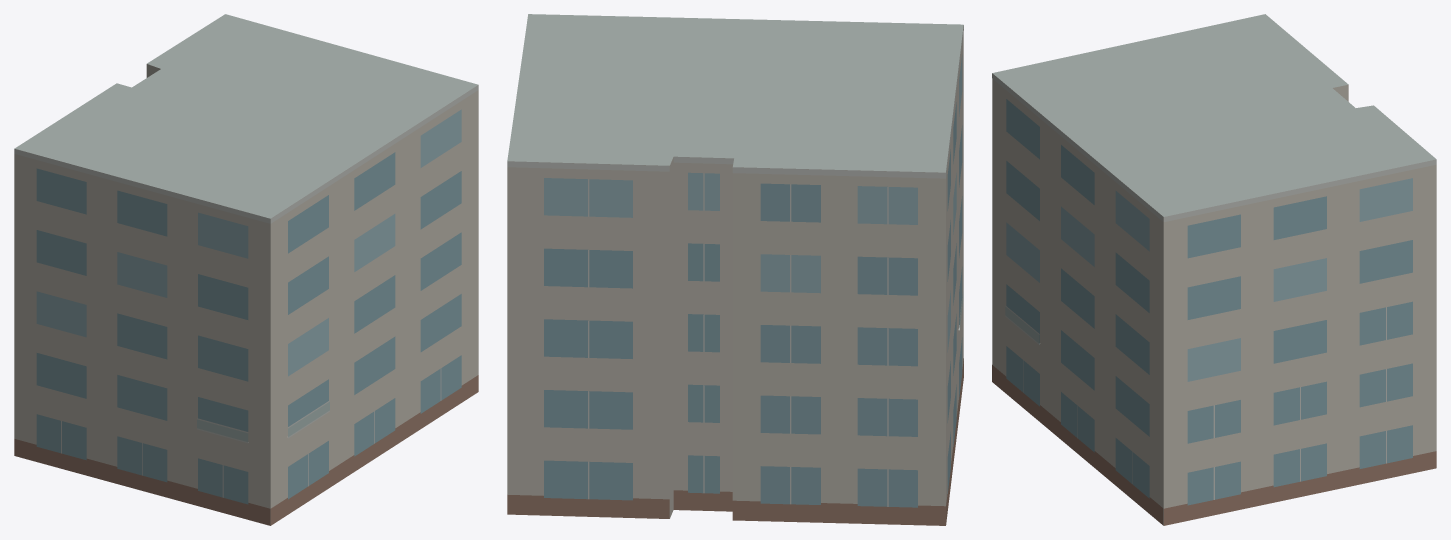
File: survey-upis-32702234.glb
3 views of the same model, side by side, from view 1: azimuth 30°, elevation 25°; view 2: azimuth 150°, elevation 25°; view 3: azimuth 270°, elevation 25° (orthographic). The views are drawn at different scales.
Parts seen in each view (by area): view 1: survey-upis-32702234.tmp; view 2: survey-upis-32702234.tmp; view 3: survey-upis-32702234.tmp.
Boxes of the visible parts, left/top/right/bottom form: survey-upis-32702234.tmp: left=14, top=14, right=478, bottom=525; survey-upis-32702234.tmp: left=507, top=14, right=963, bottom=525; survey-upis-32702234.tmp: left=992, top=14, right=1436, bottom=525.
Bounding box in the file's own units: 20.31 × 14.4 × 18.79.
